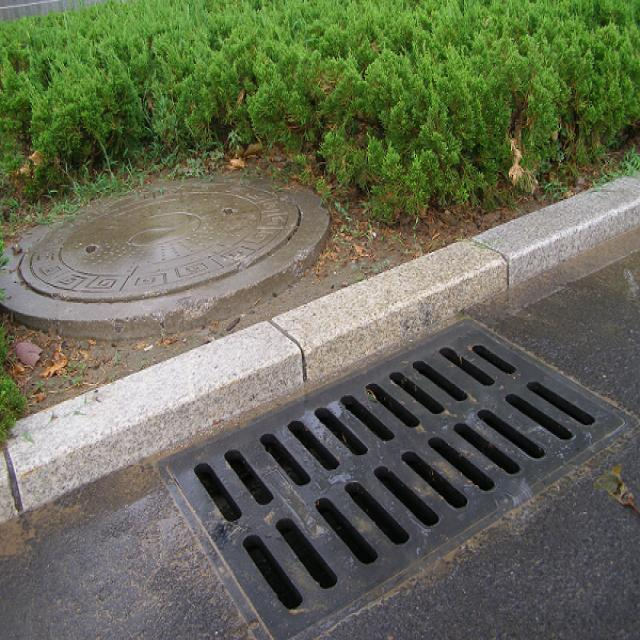manhole: (160, 322, 636, 640), (0, 173, 332, 387)
